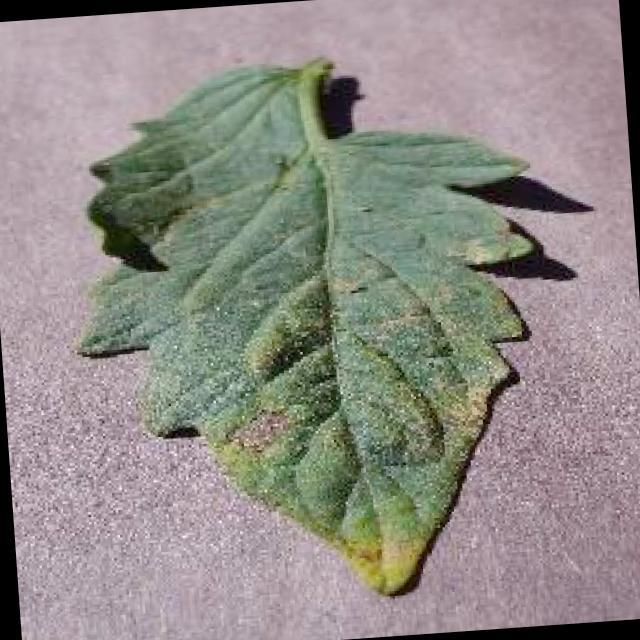Tomato Early blight leaf: (58, 37, 562, 617)
